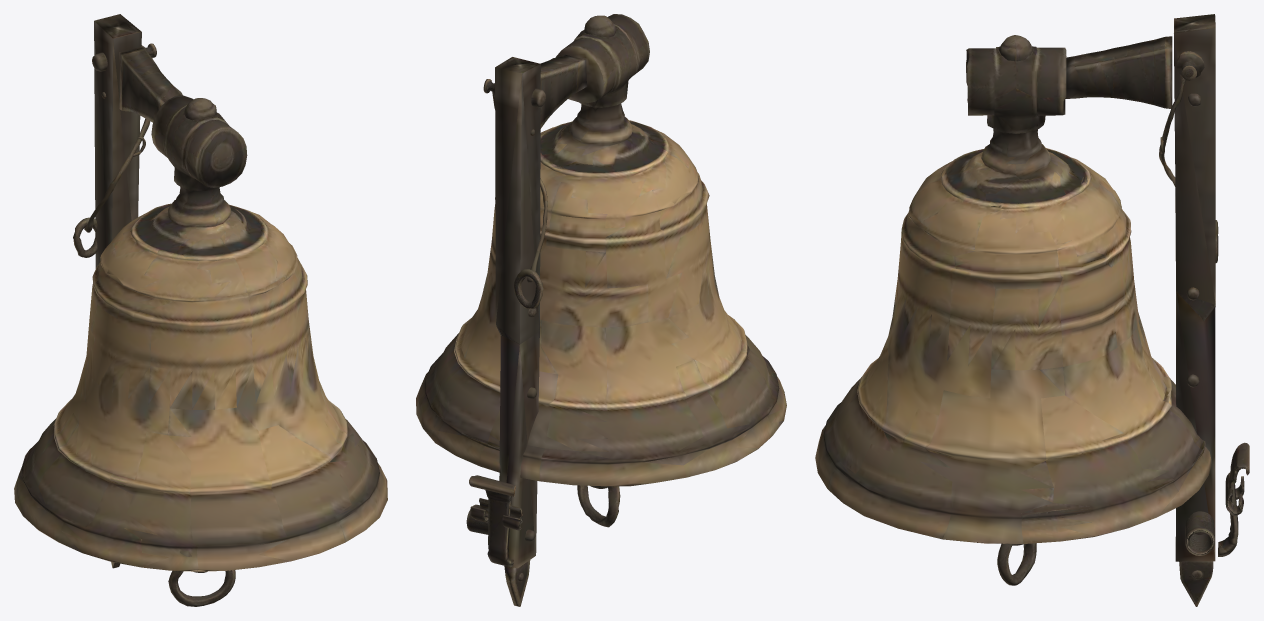
The model's file is bell.glb.
The picture shows the model from 3 angles, left to right: view 1: azimuth 30°, elevation 25°; view 2: azimuth 150°, elevation 25°; view 3: azimuth 270°, elevation 25°; orthographic projection. The views are drawn at different scales.
Parts seen in each view (by area): view 1: midway-fit; view 2: midway-fit; view 3: midway-fit.
Part boxes in pixels (box(x1,y1,x2,y2)): midway-fit: box(14, 14, 387, 606); midway-fit: box(416, 14, 786, 606); midway-fit: box(815, 14, 1249, 606).
Size of the model in its own units: 0.6206 by 1 by 0.6738.
Materials: 1 (1 with a texture image).
